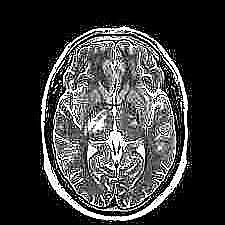Normal_Brain: (3, 2, 224, 225)
